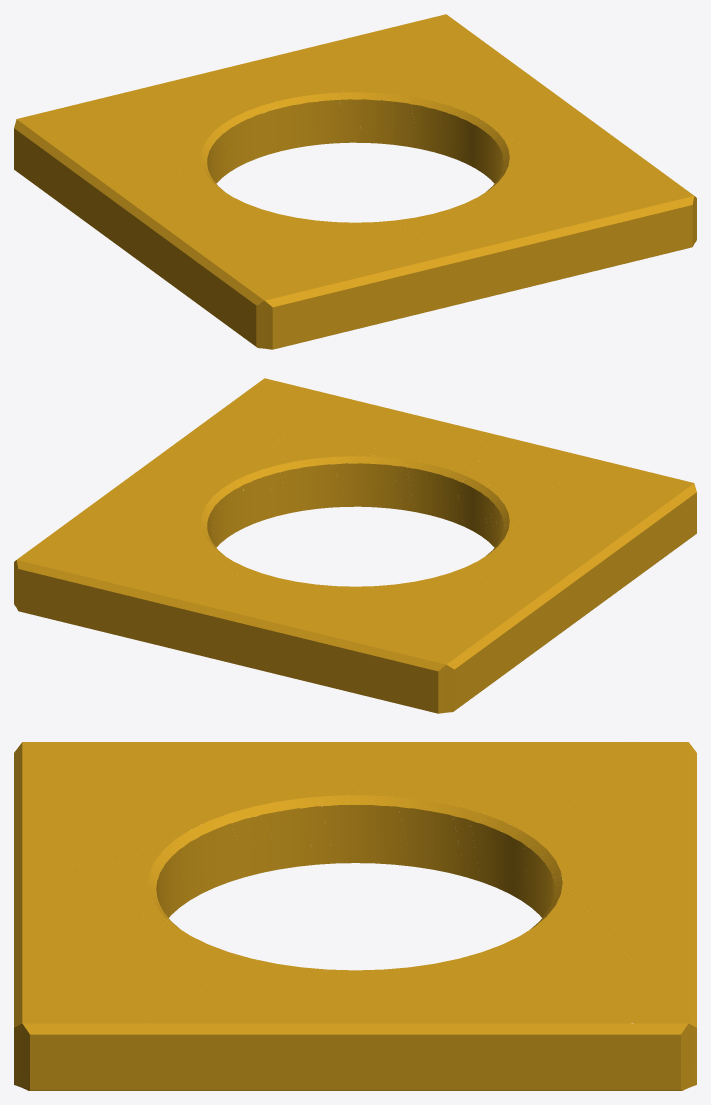
The model's file is asinma-daemo-daemo-s-2000-03.glb.
3 renders of one model, top to bottom at view 1: azimuth 30°, elevation 25°; view 2: azimuth 150°, elevation 25°; view 3: azimuth 270°, elevation 25°, orthographic. The views are drawn at different scales.
Visible parts, largest first — view 1: body; view 2: body; view 3: body.
Part boxes in pixels (left/top/right/bottom): body: left=14, top=14, right=696, bottom=349; body: left=14, top=378, right=696, bottom=713; body: left=14, top=742, right=696, bottom=1090.
Bounding box in the file's own units: 0.24 × 0.025 × 0.24.
